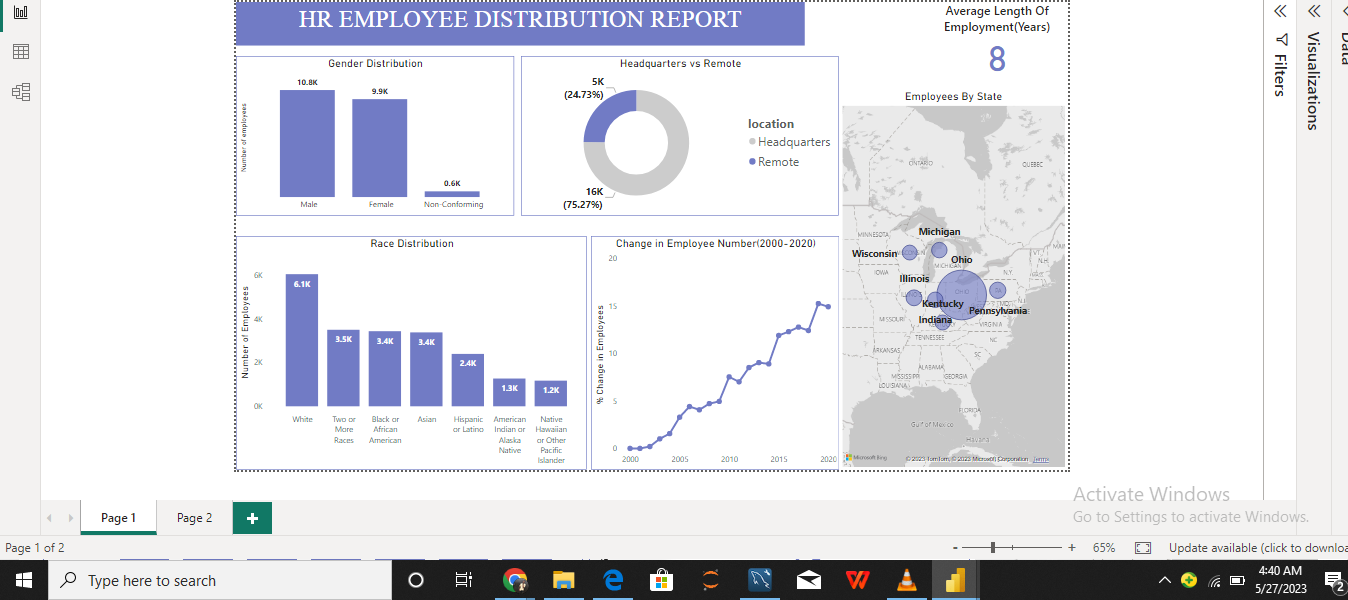

Layout of this report page (visuals, bound fields, positions):
{"tool":"powerbi","page":{"name":"Page 1","canvas":[1280,720],"ordinal":0},"visuals":[{"type":"textbox","box":[0,0,875.2,67.2],"z":0},{"type":"card","title":"Average Length Of Employment(Years)","fields":{"Values":["Sum(avg_length_employment.avg_length_employment)"]},"box":[1061.3,0,218.9,112.3],"z":1000},{"type":"columnChart","title":"Gender Distribution","fields":{"Y":["Sum(gender.count)"],"Category":["gender.gender"]},"box":[0,83.5,427.7,246.2],"z":2000},{"type":"donutChart","title":"Headquarters vs Remote","fields":{"Category":["location.location"],"Y":["Sum(location.count)"]},"box":[438.5,83.1,489.2,246.2],"z":3000},{"type":"lineChart","title":"Change in Employee Number(2000-2020)","fields":{"Category":["employee_change.year"],"Y":["Sum(employee_change.net_change_percent)"]},"box":[545.8,360,381.6,360],"z":4000},{"type":"map","title":"Employees By State","fields":{"Category":["location_state.location_state"],"Size":["Sum(location_state.count)"]},"box":[927.4,135.4,352.8,584.6],"z":5000},{"type":"clusteredColumnChart","title":"Race Distribution","fields":{"Category":["race.race"],"Y":["Sum(race.count)"]},"box":[0,360,540,360],"z":6000}]}

Visuals, with their boxes on the page's 1280x720 design canvas (x1, y1, x2, y2). These are canvas units, not pixel positions in the 1348x600 screenshot, which may show the page scaled, cropped or inside an application window:
textbox: <box>0,0,875,67</box>
"Average Length Of Employment(Years)" card: <box>1061,0,1280,112</box>
"Gender Distribution" columnChart: <box>0,84,428,330</box>
"Headquarters vs Remote" donutChart: <box>438,83,928,329</box>
"Change in Employee Number(2000-2020)" lineChart: <box>546,360,927,720</box>
"Employees By State" map: <box>927,135,1280,720</box>
"Race Distribution" clusteredColumnChart: <box>0,360,540,720</box>
